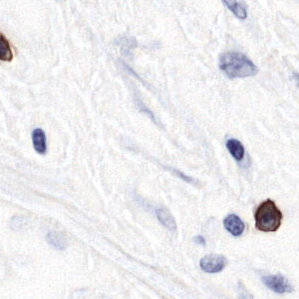Lymphocyte: (253, 198, 282, 231)
